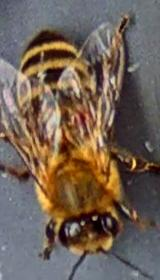varroa_mite: (66, 106, 94, 131)
